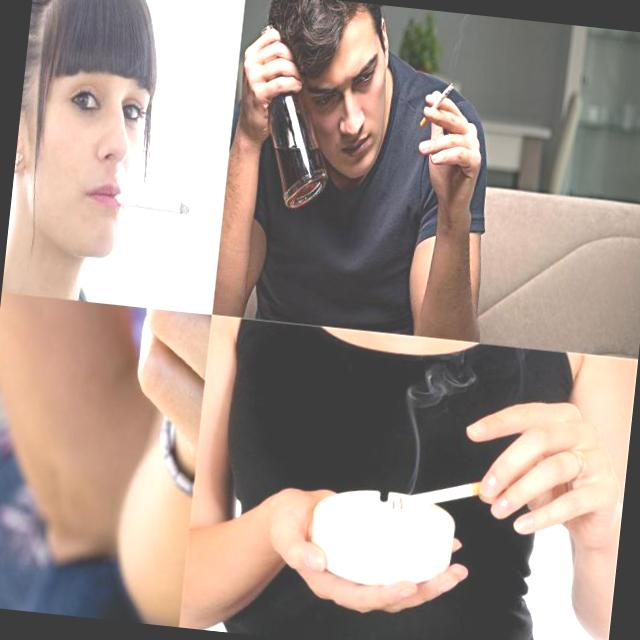smoke: (390, 466, 510, 524), (417, 72, 457, 132), (110, 192, 190, 216)
